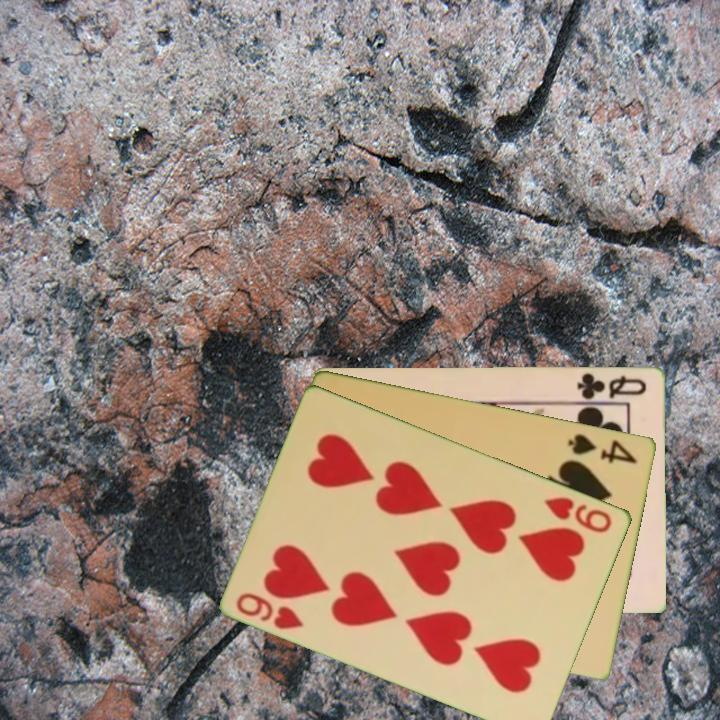4s: (565, 429, 640, 467)
9h: (232, 588, 307, 633), (541, 493, 615, 536)
Qc: (571, 369, 649, 404)
